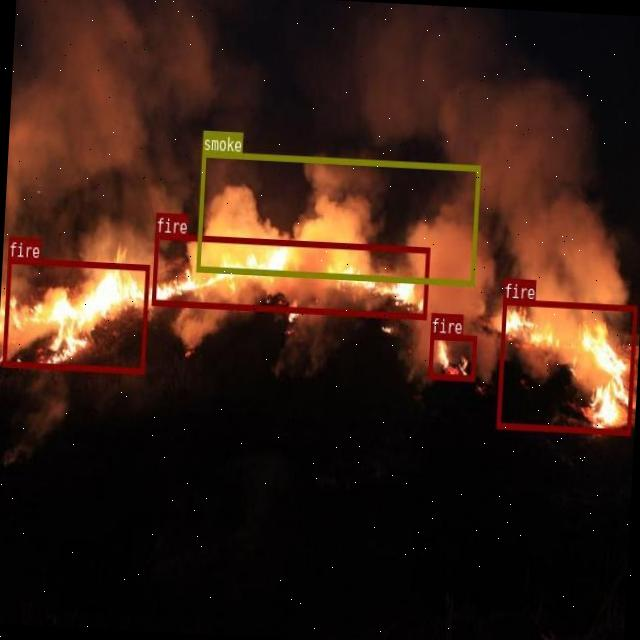fire: (152, 233, 428, 320), (497, 298, 638, 436), (2, 258, 148, 372), (428, 333, 476, 380)
smoke: (195, 151, 480, 285)
